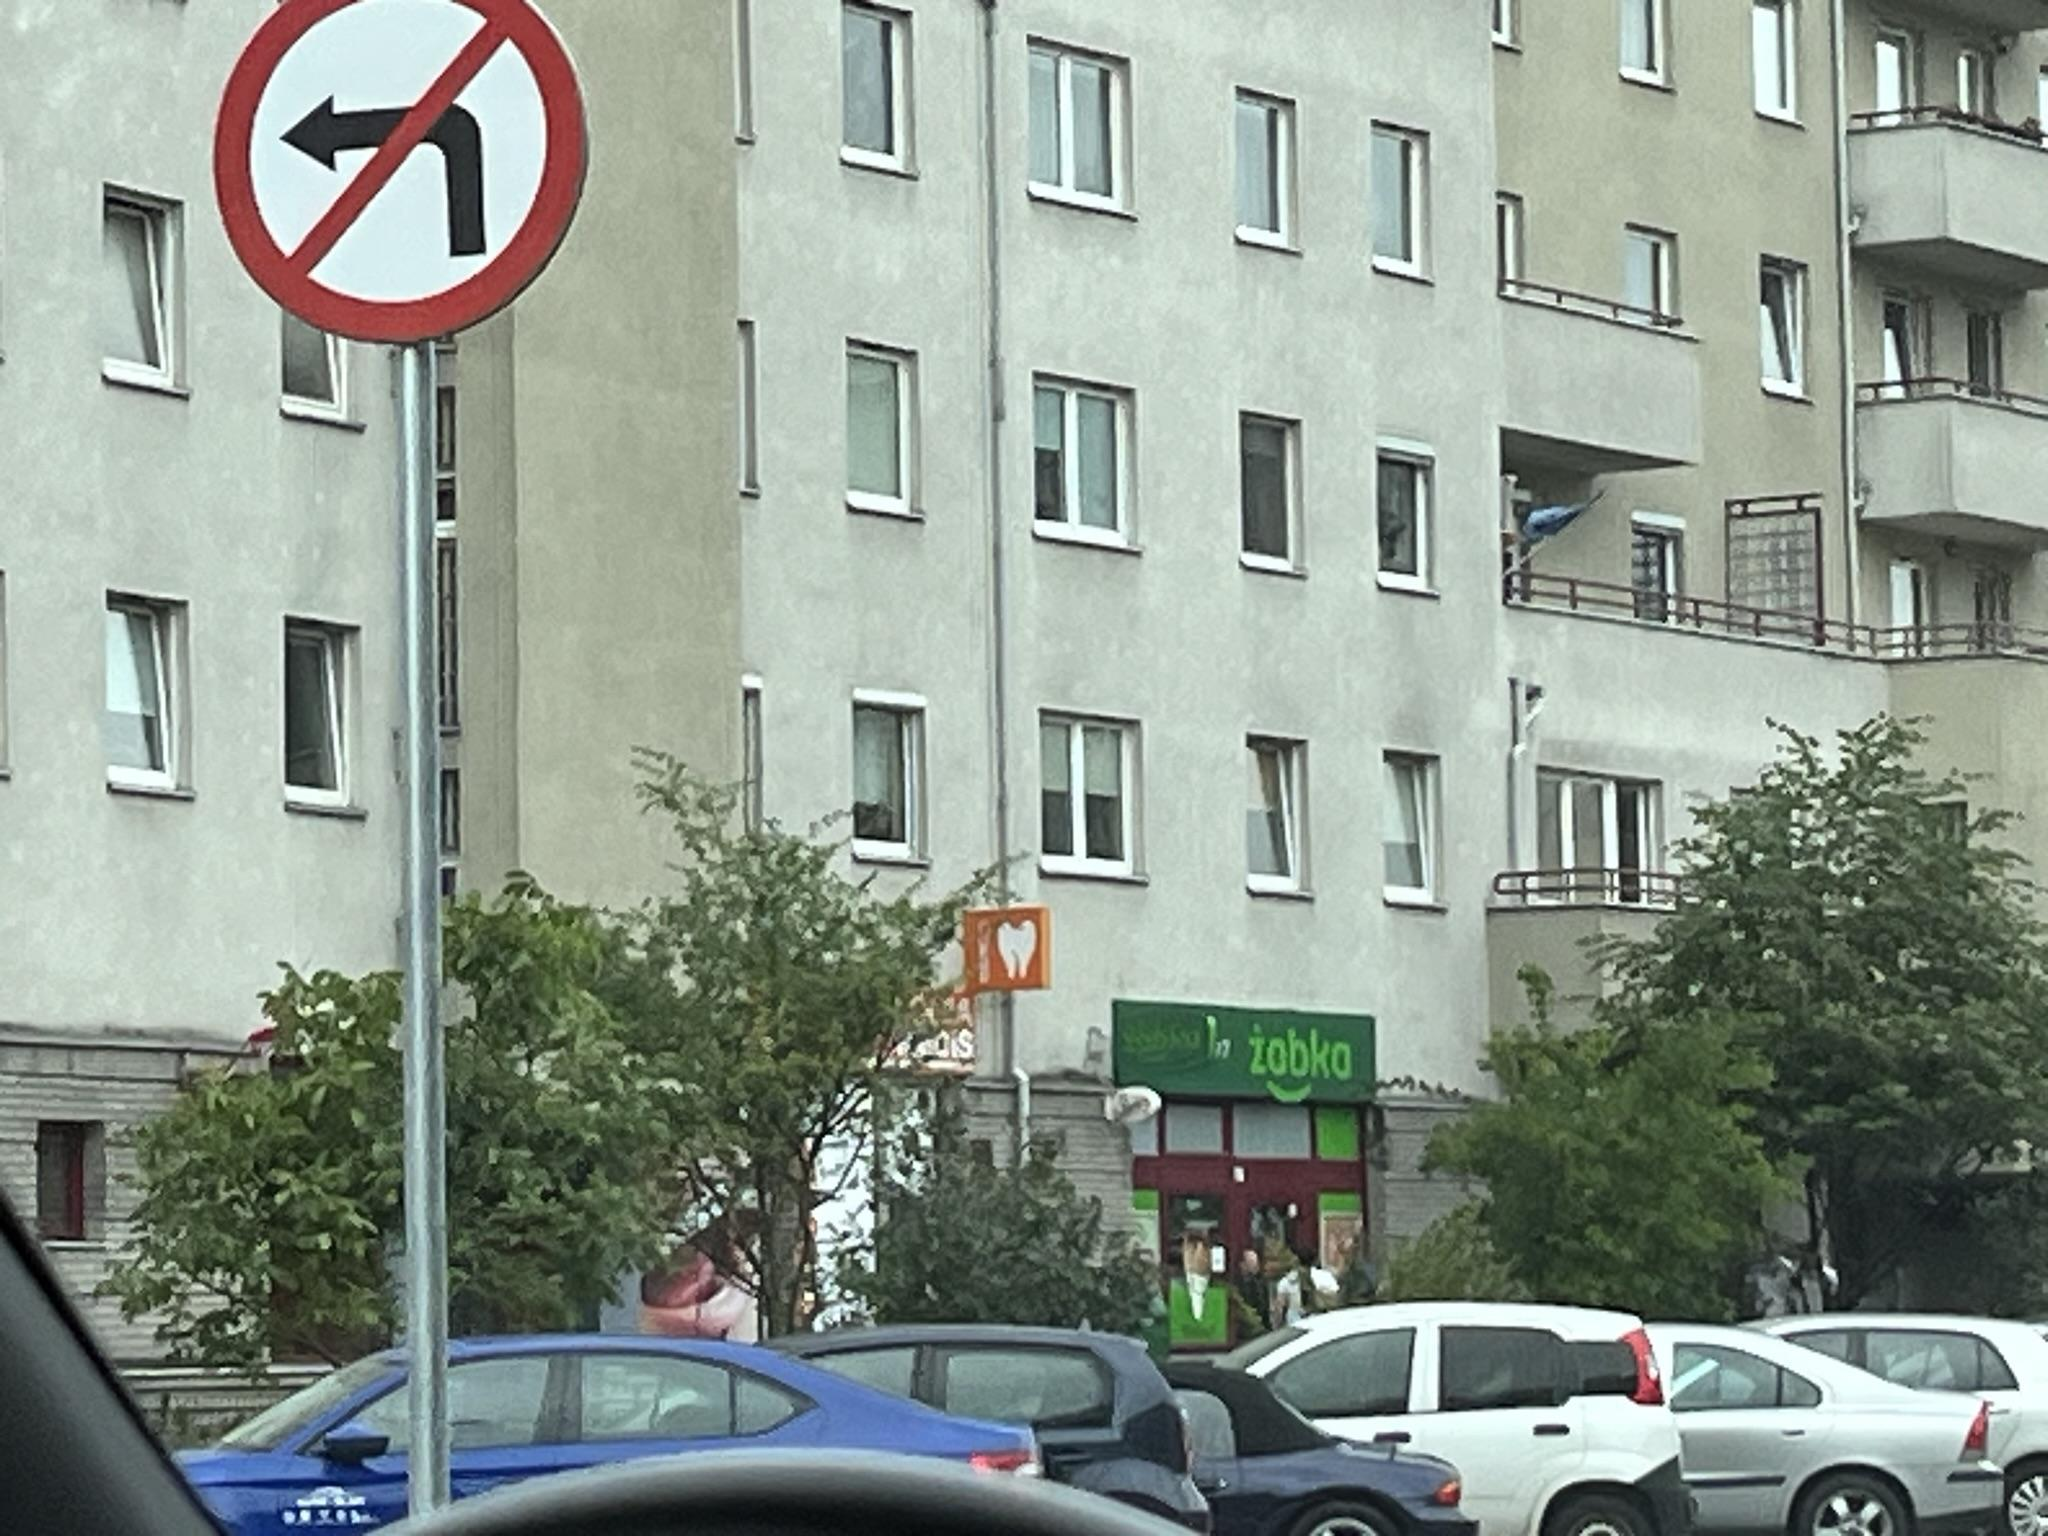prohibitory: (210, 0, 590, 345)
